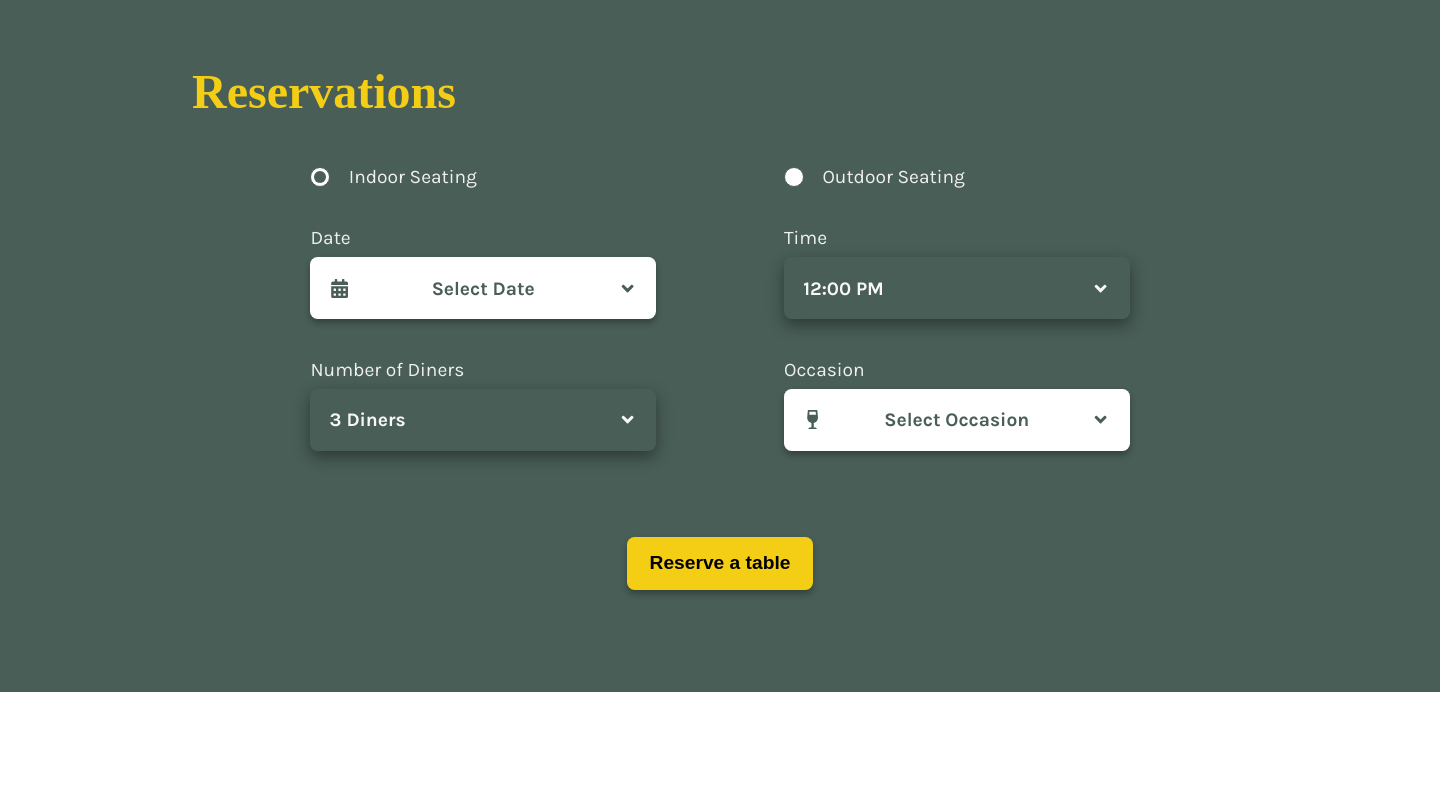
BookingForm › should allow the user to select an occasion
What coordinates should you click on to do the following:
click the text "Select Occasion"
I would click on:
 (957, 420)
Its box is [884,408,1029,431].
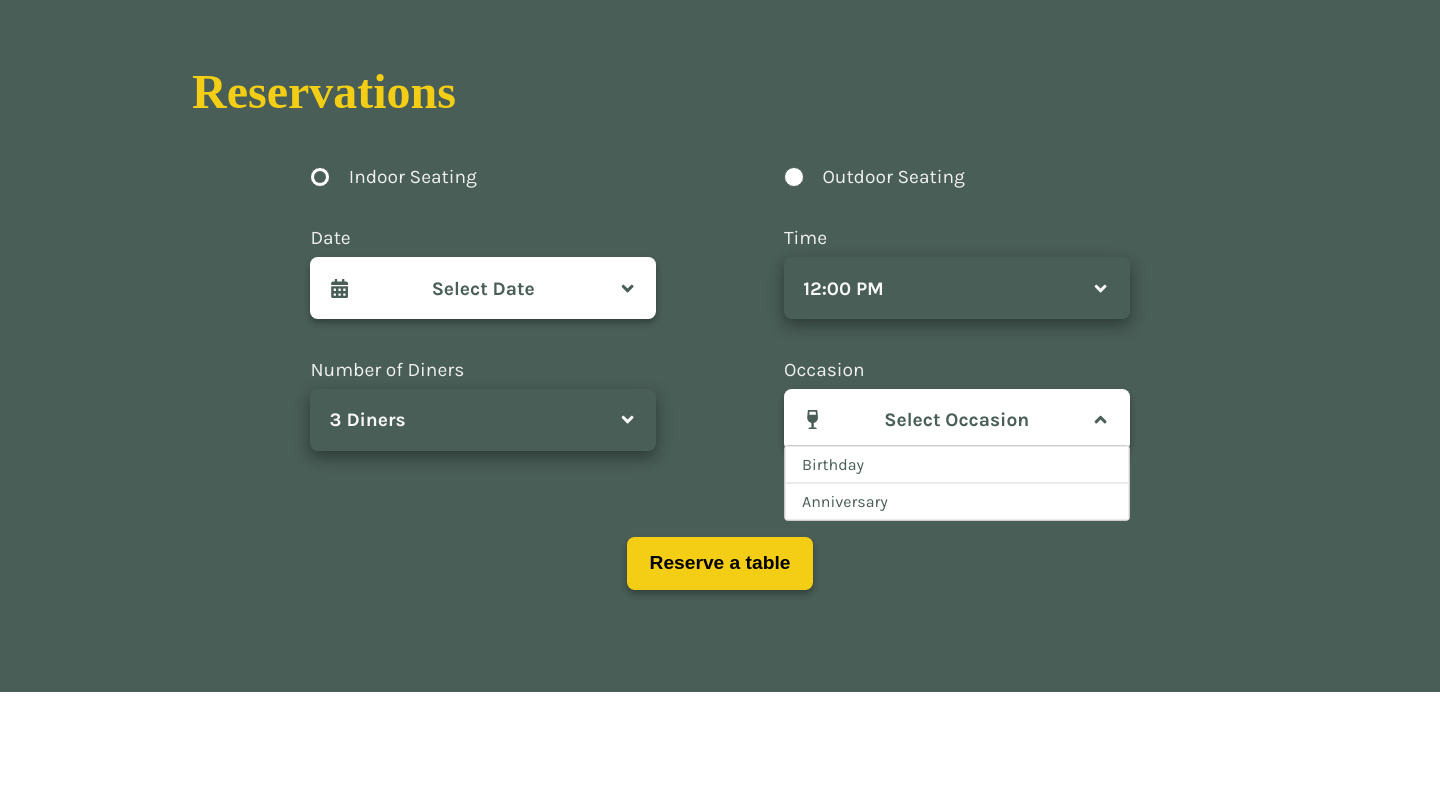
What coordinates should you click on to do the following:
click the list item "Birthday"
I would click on:
 (957, 464)
Its box is [785,446,1129,483].
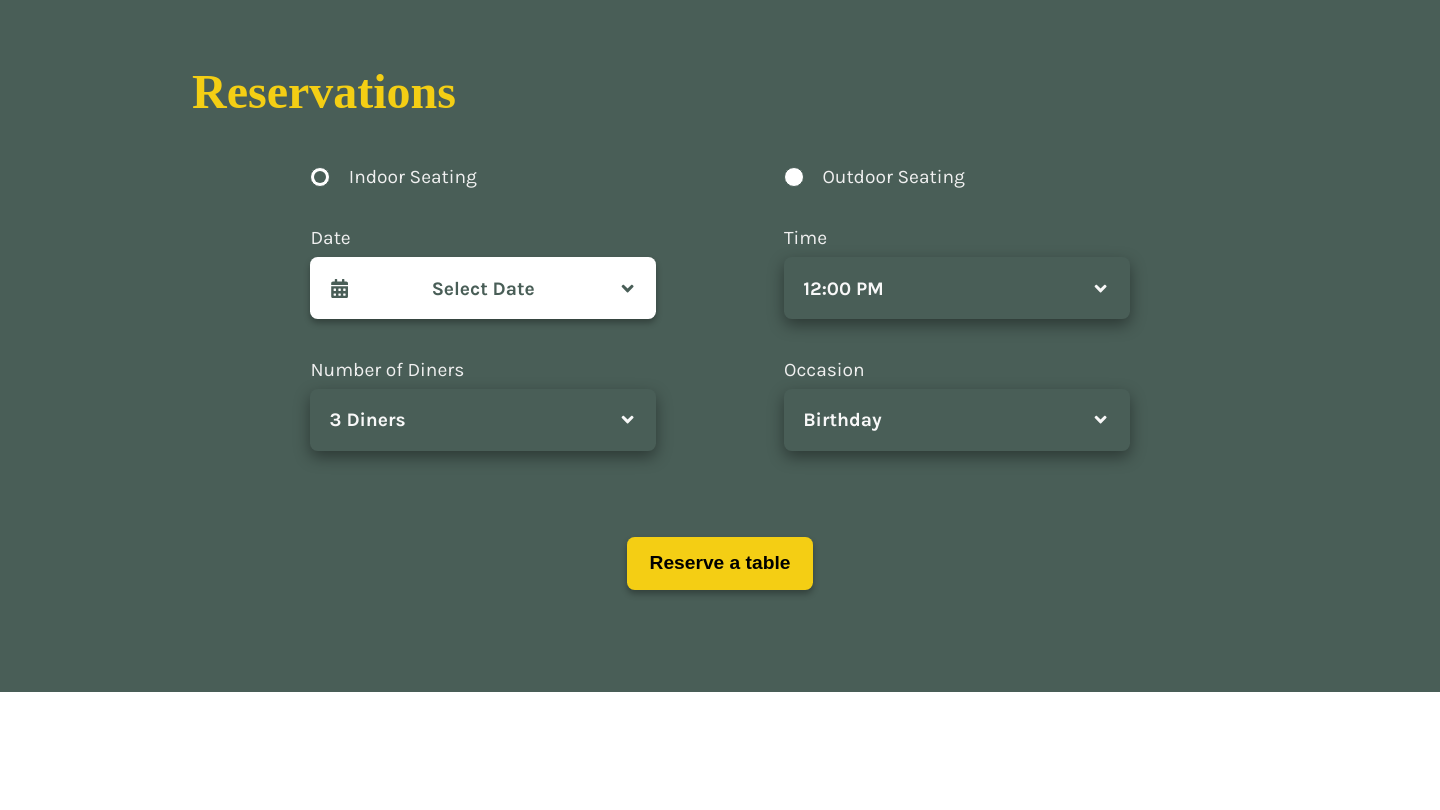
Check: the text "Birthday" is shown, box [803,408,882,431]
